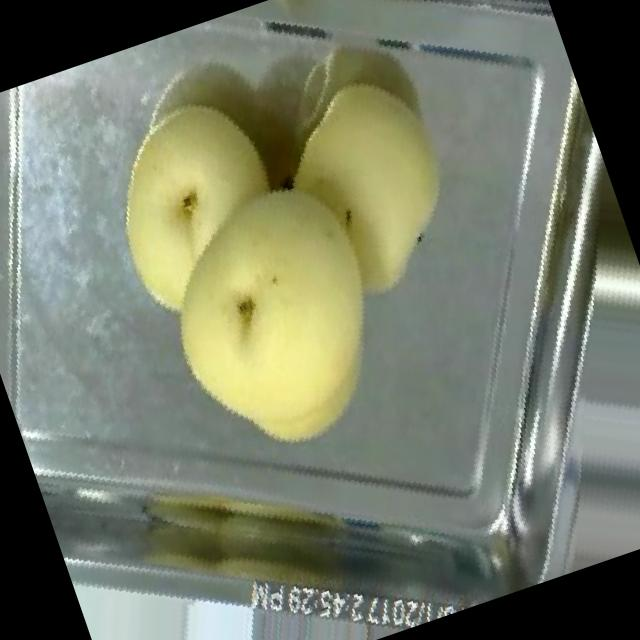Fruit: (90, 108, 482, 508), (232, 21, 524, 348)
